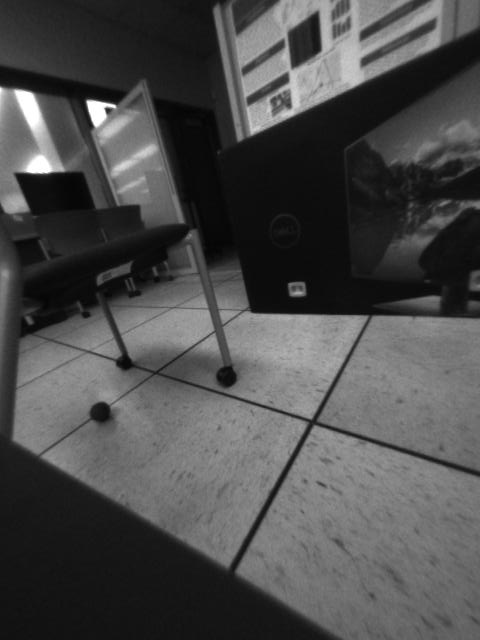dogtoy: (84, 396, 117, 425)
